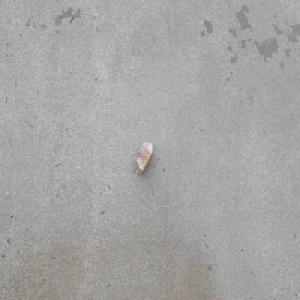Rock: (136, 141, 154, 174)
